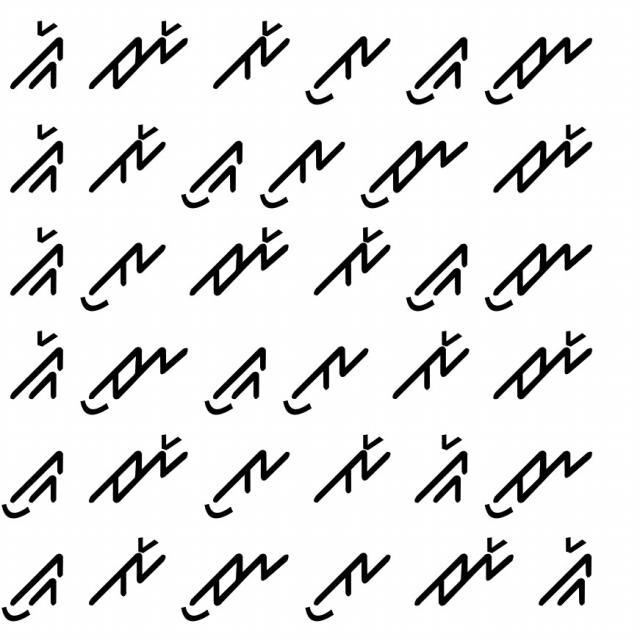ar: (383, 325, 472, 408), (310, 221, 392, 307), (204, 13, 293, 91), (84, 536, 171, 610), (84, 120, 169, 194), (310, 429, 392, 503)
aw: (278, 331, 374, 423), (204, 436, 298, 524), (78, 227, 170, 314), (301, 540, 393, 626), (258, 128, 349, 211), (303, 31, 391, 105)
nggar: (538, 530, 608, 612), (8, 14, 73, 101), (411, 426, 472, 514), (3, 119, 70, 197), (8, 224, 70, 303), (4, 327, 68, 403)
nggaw: (0, 544, 76, 627), (200, 334, 272, 418), (176, 134, 248, 213), (401, 236, 472, 316), (0, 451, 72, 523), (406, 29, 472, 106)
njar: (489, 118, 597, 208), (407, 534, 519, 620), (490, 323, 599, 403), (82, 16, 195, 91), (185, 224, 293, 302), (87, 431, 191, 508)
njaw: (480, 433, 599, 519), (479, 230, 597, 316), (480, 22, 594, 107), (181, 544, 293, 629), (358, 130, 470, 214), (78, 338, 196, 414)
